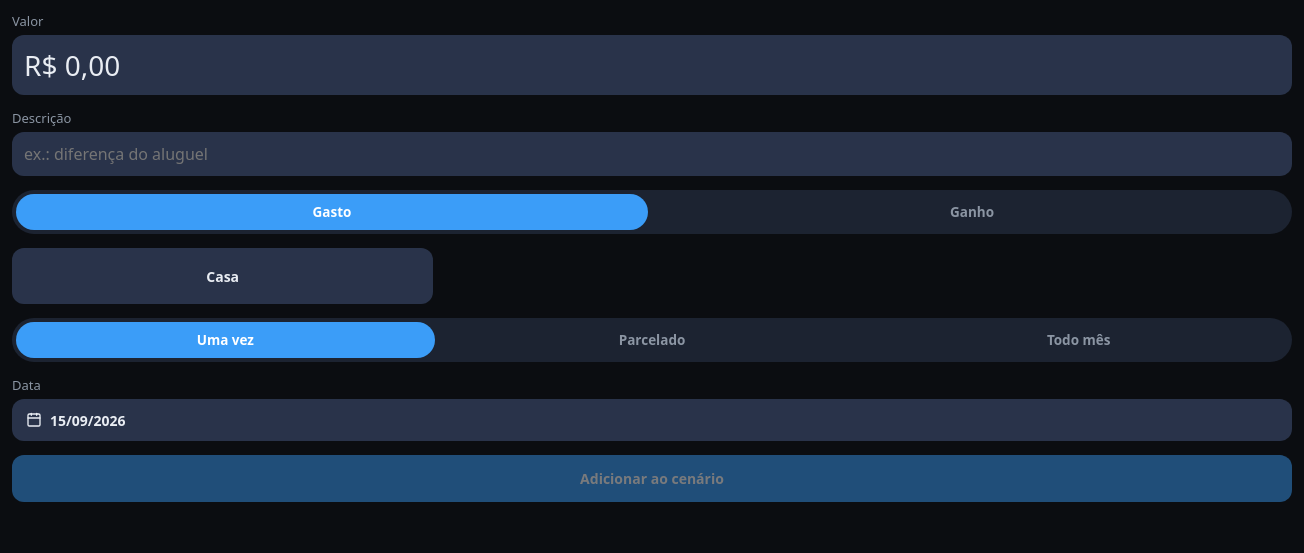
Parcelado exige 2 parcelas ou mais e mostra o valor da parcela
Type "1000,00" into the field labelled "Valor" at (652, 65), box [12,35,1292,95]
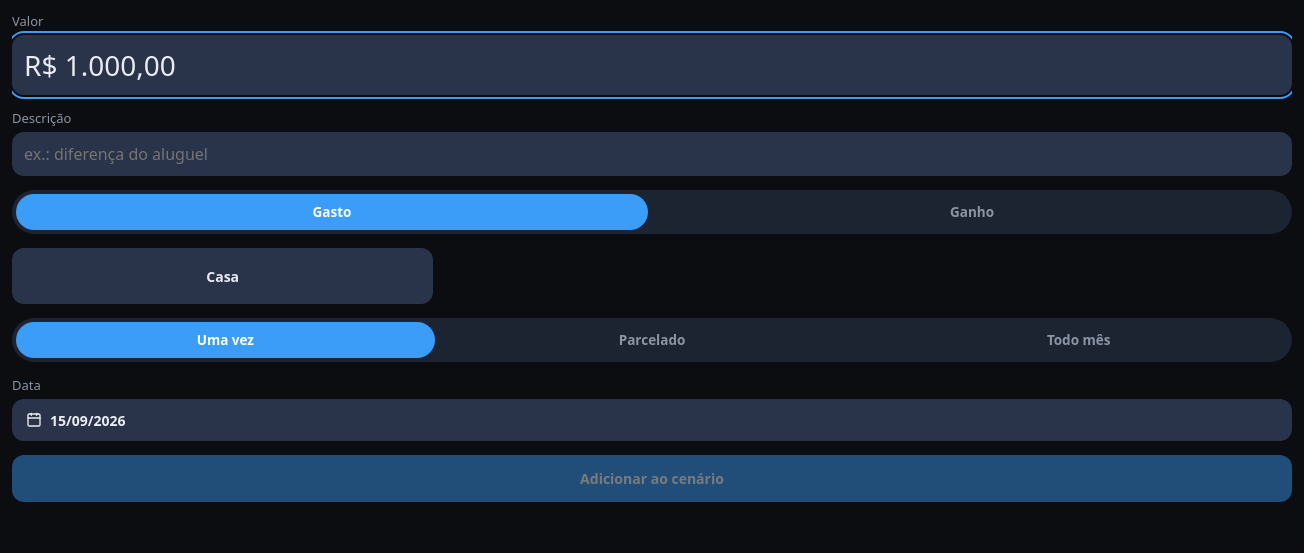
Click the button "Casa" at (223, 276), box [12,248,433,304]
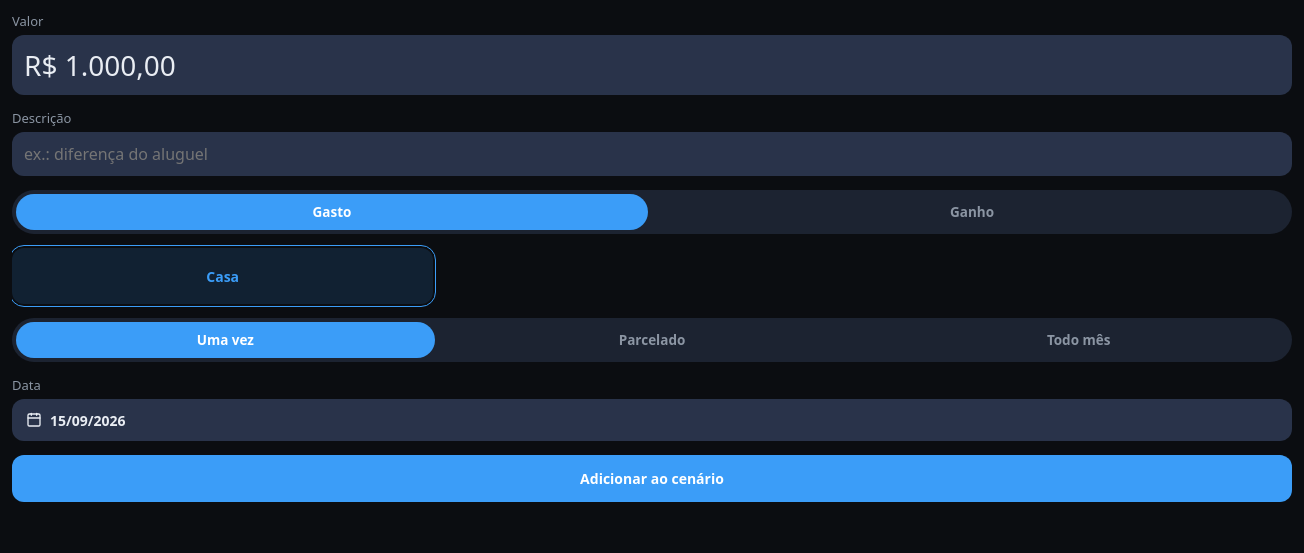
Click the radio button labelled "Parcelado" at (652, 340), box [443,322,861,358]
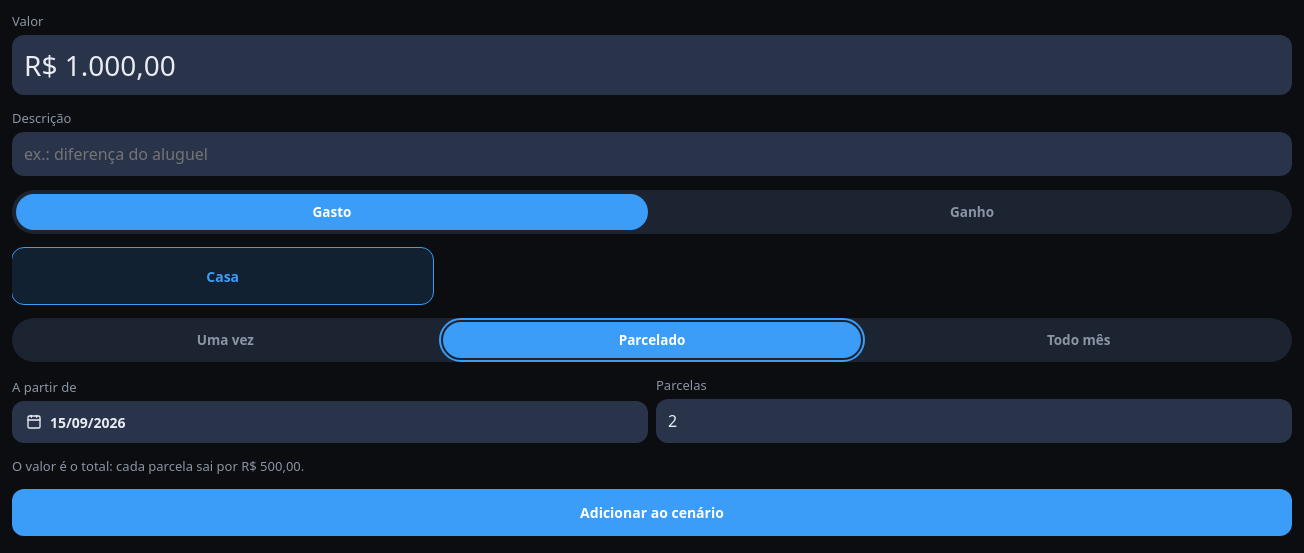
Replace the text in the field labelled "Parcelas" with "1" at (974, 421), box [656,399,1292,443]
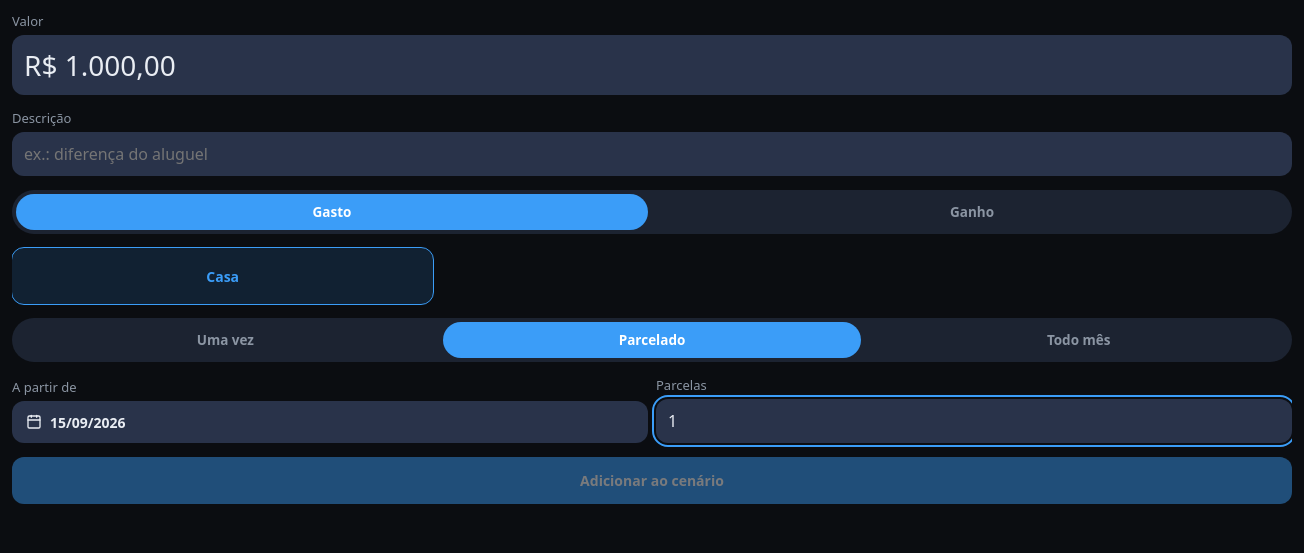
Result: the button "Adicionar ao cenário" is disabled at [12,457,1292,504]
Replace the text in the field labelled "Parcelas" with "4" at (974, 421), box [656,399,1292,443]
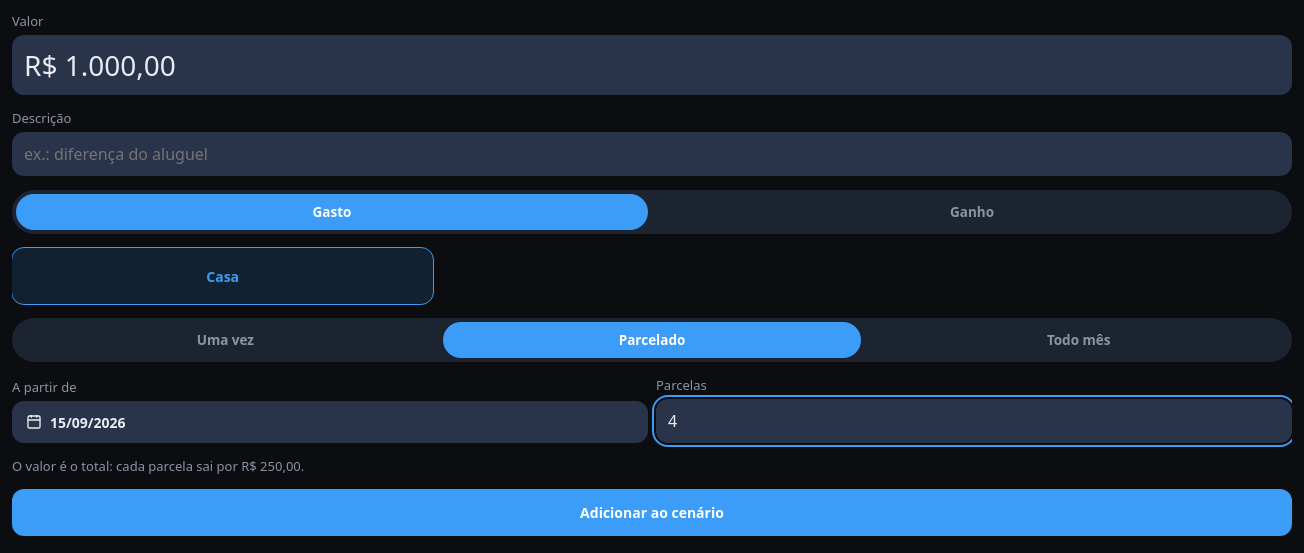
Result: the button "Adicionar ao cenário" is enabled at [12,489,1292,536]
Result: the text "O valor é o total: cada parcela sai por R$ 250,00." is shown at [12,457,304,475]
